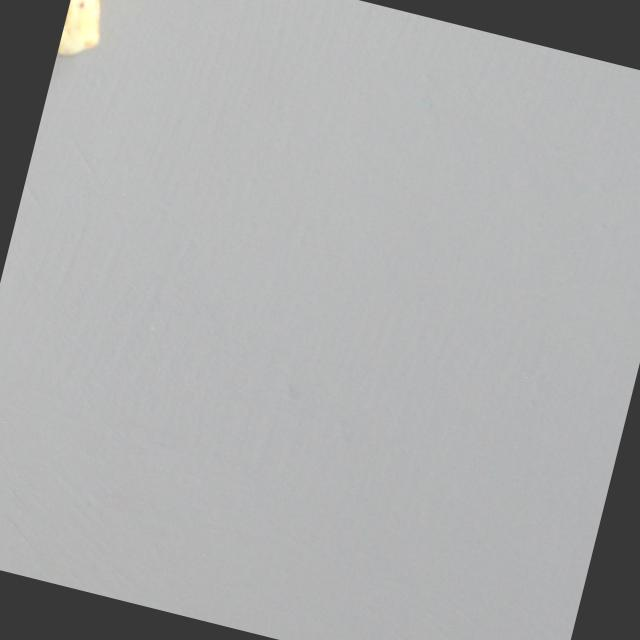punto_negro: (56, 0, 112, 66)
